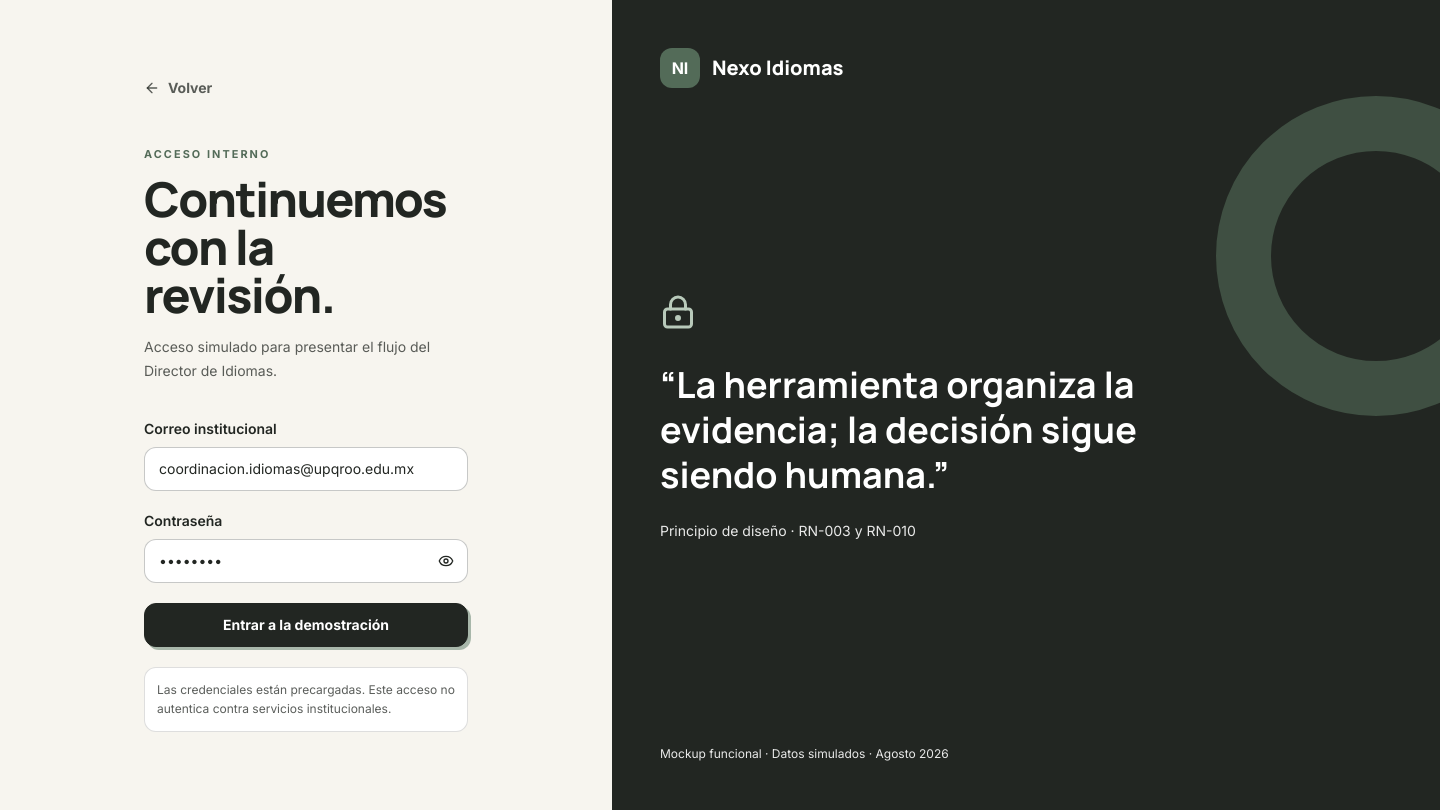
Scenario: LoginPage › muestra errores específicos cuando los datos son inválidos
Replace the text in the field labelled "Correo institucional" with "correo-invalido" at (306, 469), box [144,447,468,491]
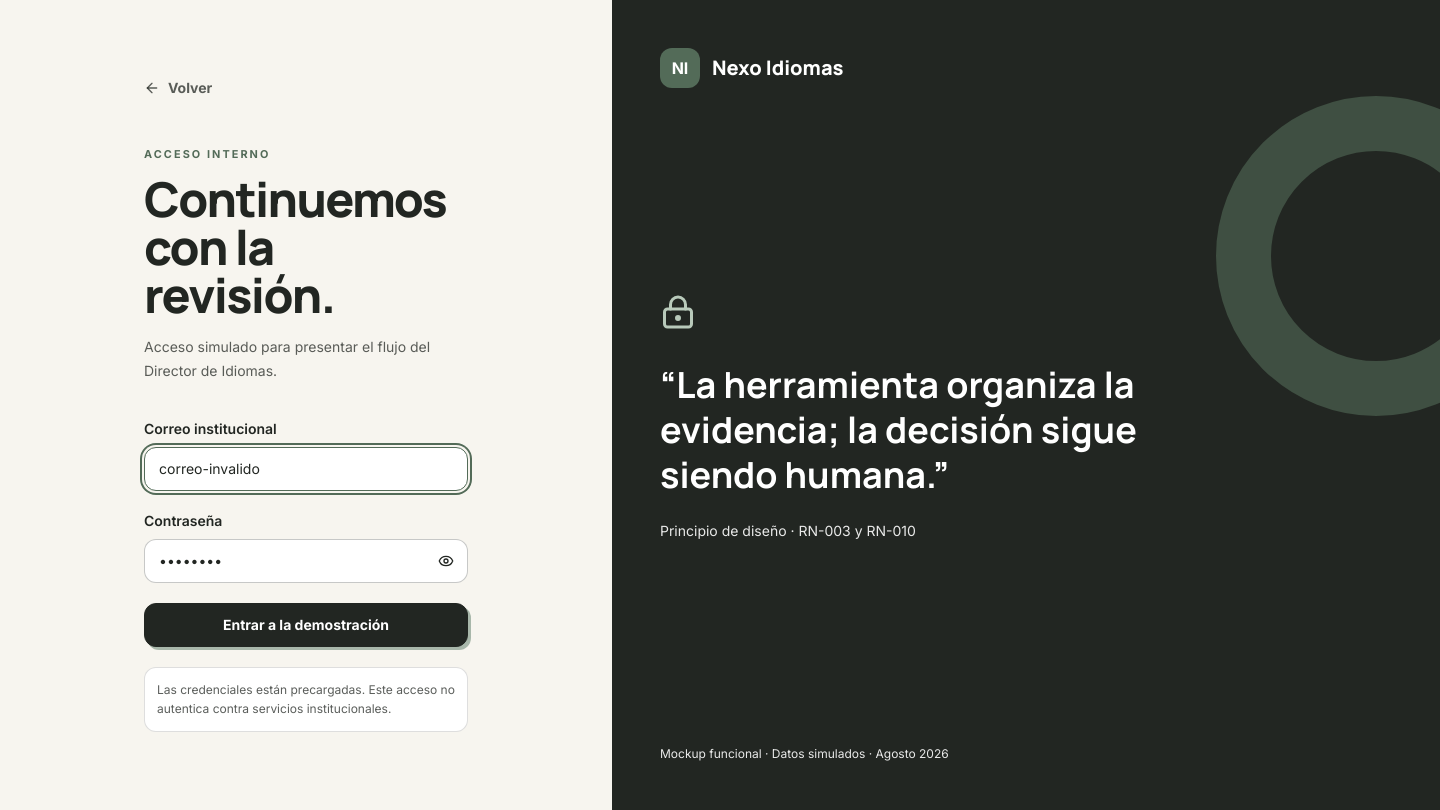
Type "123" into the password field labelled "Contraseña" at (306, 561), box [144,539,468,583]
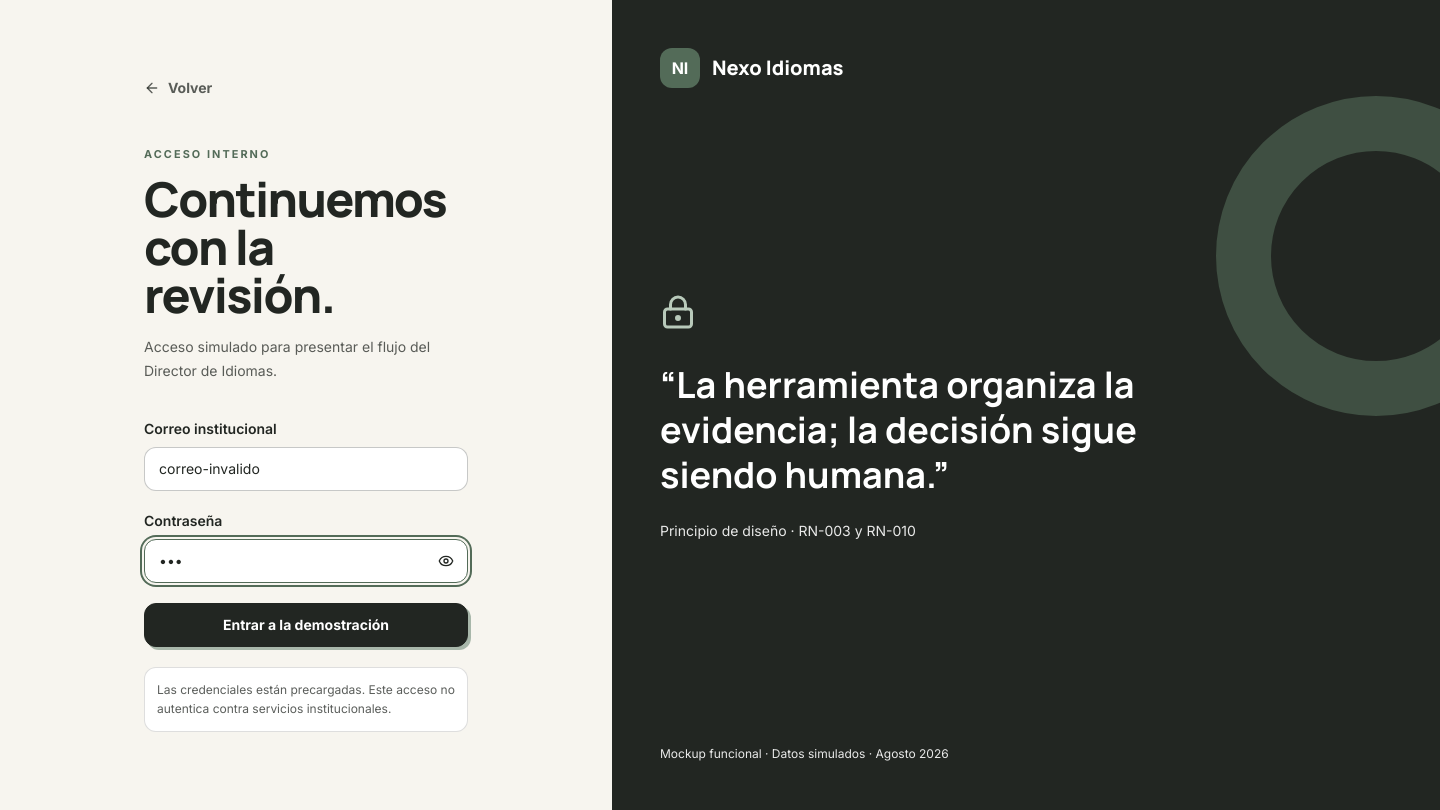
Click the button "Entrar a la demostración" at (306, 625), box [144,603,468,647]
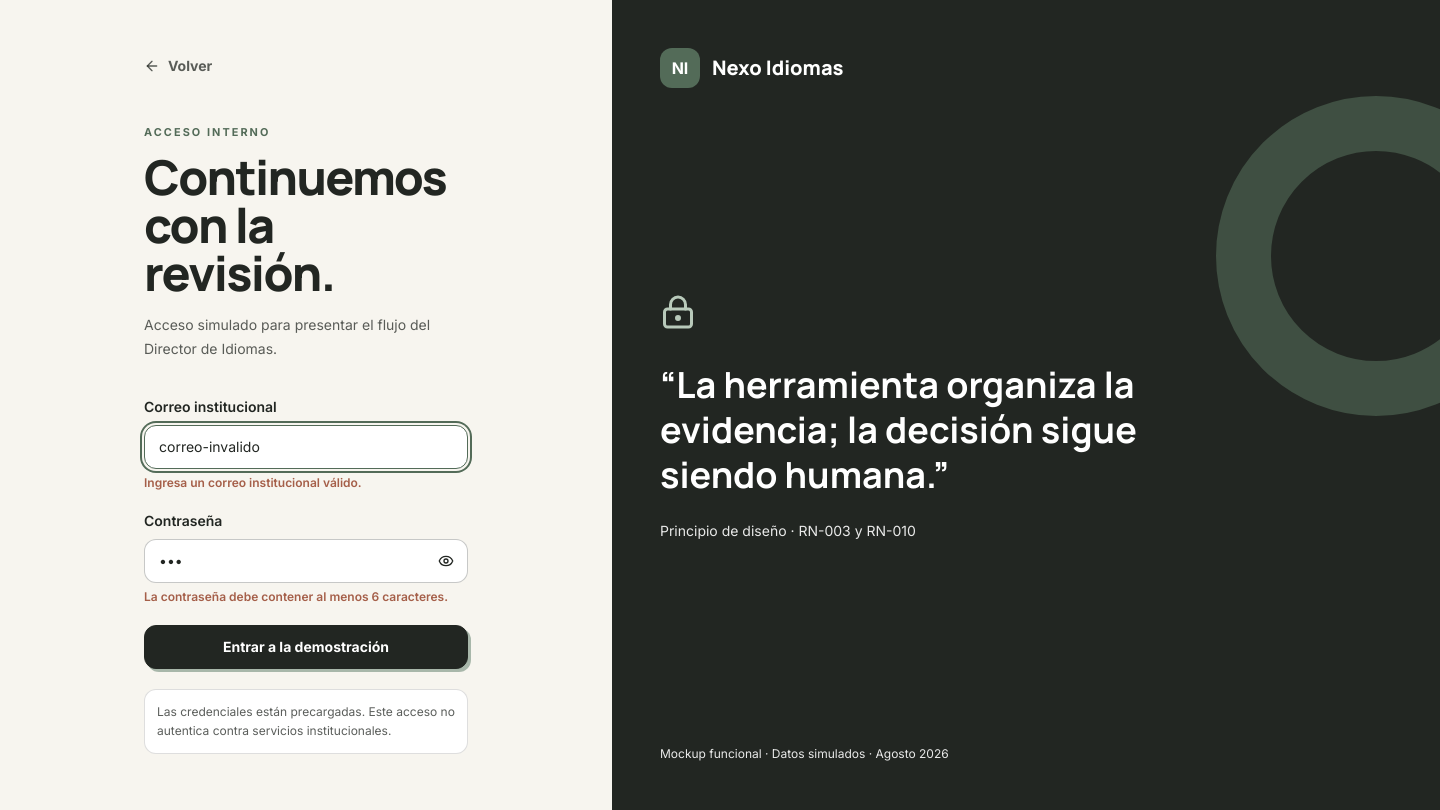
Check: the text "Ingresa un correo institucional válido." is shown, box [144,475,362,490]
Check: the text "La contraseña debe contener al menos 6 caracteres." is shown, box [144,589,468,605]
